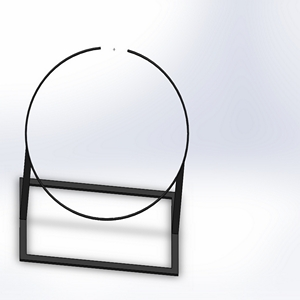circle: (16, 44, 191, 276)
